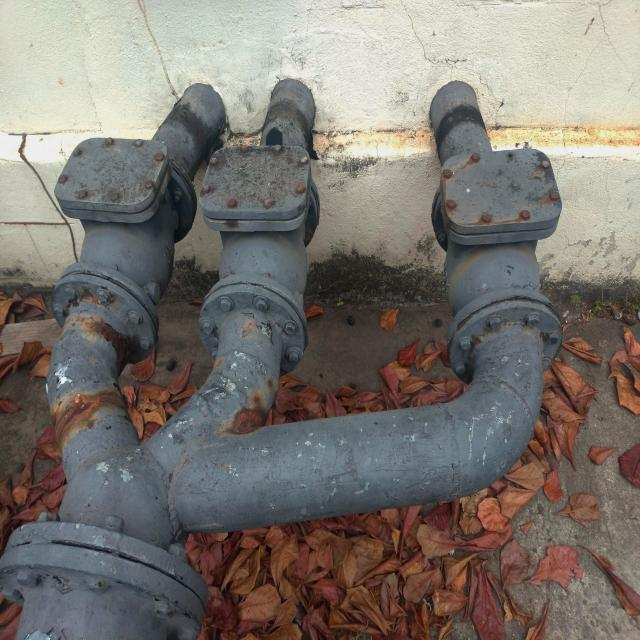gas: (19, 87, 551, 639)
